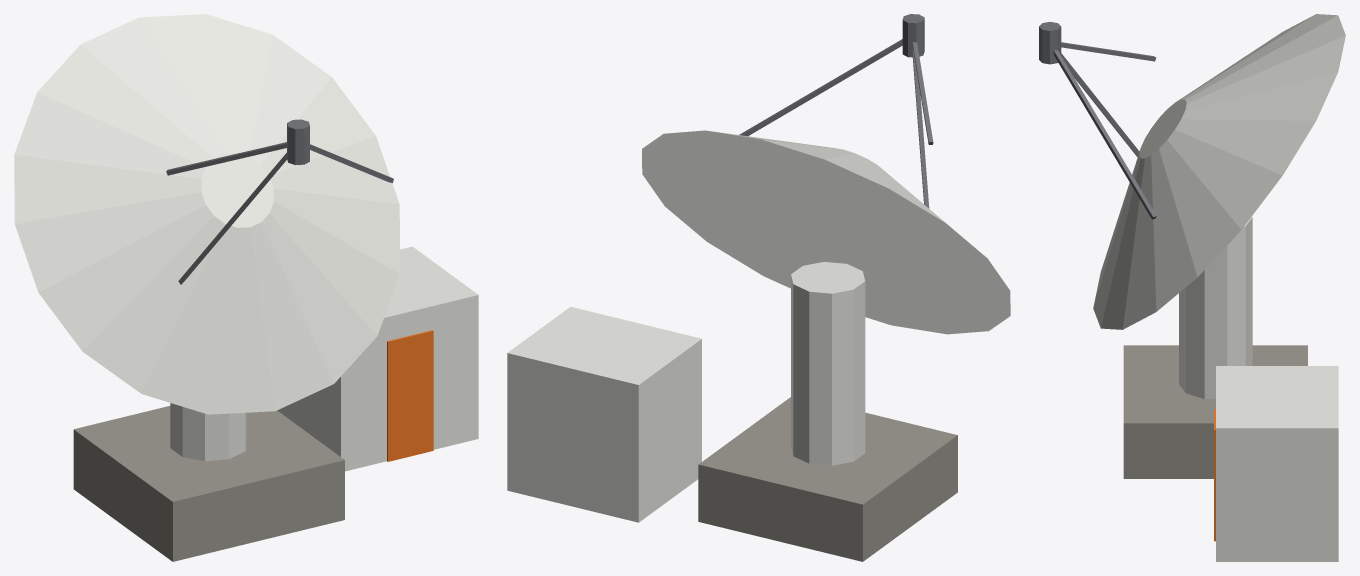
Rendered from space.ground-dish.glb.
The picture shows the model from 3 angles, left to right: view 1: azimuth 30°, elevation 25°; view 2: azimuth 150°, elevation 25°; view 3: azimuth 270°, elevation 25°; orthographic projection. The views are drawn at different scales.
Visible parts, largest first — view 1: bowl, plinth, hut, hut-door, pedestal, feed, strut4.2, strut2.1; view 2: bowl, hut, plinth, pedestal, strut0.0, feed, strut4.2; view 3: bowl, hut, plinth, pedestal, strut0.0, feed, strut4.2, strut2.1.
Part boxes in pixels (x1=…): bowl: x1=14, y1=14, x2=400, y2=414; plinth: x1=73, y1=406, x2=344, y2=561; hut: x1=277, y1=246, x2=478, y2=471; hut-door: x1=387, y1=330, x2=433, y2=461; pedestal: x1=170, y1=403, x2=247, y2=461; feed: x1=287, y1=119, x2=309, y2=165; strut4.2: x1=178, y1=152, x2=286, y2=284; strut2.1: x1=166, y1=142, x2=286, y2=175; bowl: x1=642, y1=130, x2=1010, y2=334; hut: x1=507, y1=306, x2=701, y2=522; plinth: x1=698, y1=397, x2=957, y2=561; pedestal: x1=791, y1=262, x2=865, y2=465; strut0.0: x1=739, y1=39, x2=902, y2=136; feed: x1=902, y1=14, x2=924, y2=57; strut4.2: x1=912, y1=50, x2=929, y2=208; bowl: x1=1093, y1=14, x2=1345, y2=329; hut: x1=1216, y1=366, x2=1338, y2=561; plinth: x1=1123, y1=345, x2=1307, y2=478; pedestal: x1=1179, y1=216, x2=1252, y2=398; strut0.0: x1=1053, y1=50, x2=1156, y2=219; feed: x1=1039, y1=21, x2=1061, y2=64; strut4.2: x1=1061, y1=53, x2=1139, y2=156; strut2.1: x1=1061, y1=42, x2=1156, y2=61.
Bounding box in the file's own units: 7.85 × 7.43 × 4.99.
